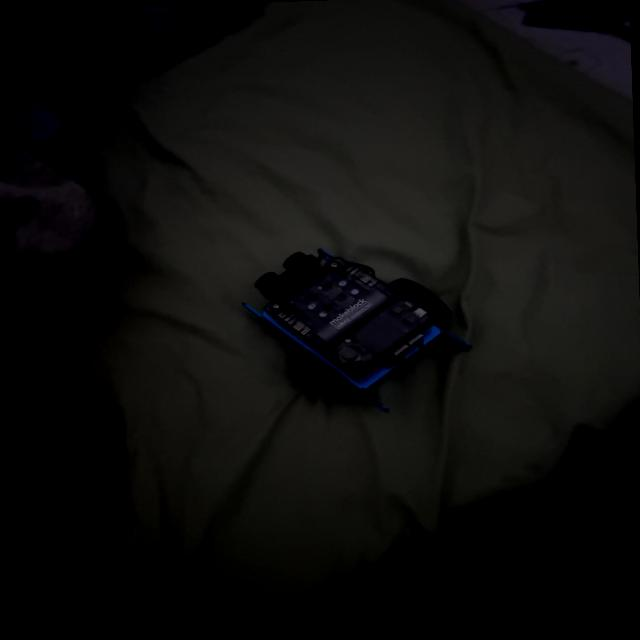mbot-detection: (228, 236, 484, 424)
